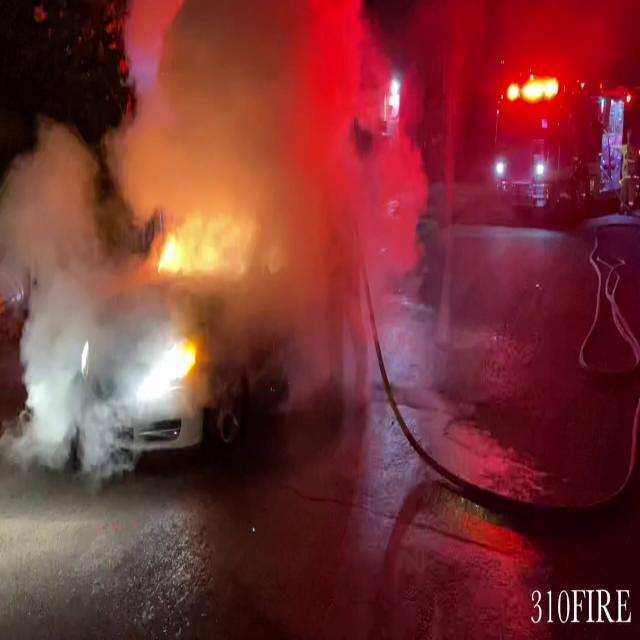Fire: (149, 224, 237, 280)
Smoke: (0, 119, 185, 474), (95, 0, 369, 211)
